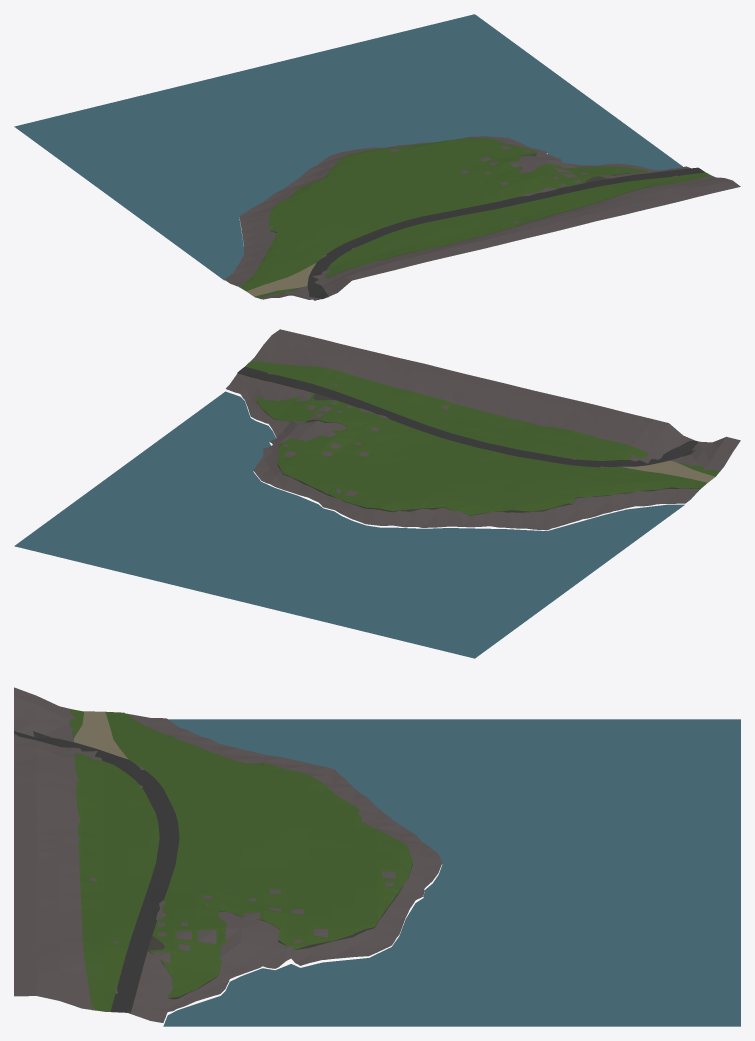
The picture shows the model from 3 angles, top to bottom: view 1: azimuth 30°, elevation 25°; view 2: azimuth 150°, elevation 25°; view 3: azimuth 270°, elevation 25°; orthographic projection. The views are drawn at different scales.
Parts seen in each view (by area): view 1: c_m22_p01; view 2: c_m22_p01; view 3: c_m22_p01.
Part boxes in pixels (x1,y1,x2,y2): c_m22_p01: (14,14,740,300); c_m22_p01: (14,329,740,658); c_m22_p01: (14,687,740,1026).
Bounding box in the file's own units: 128 × 6.29 × 128.
